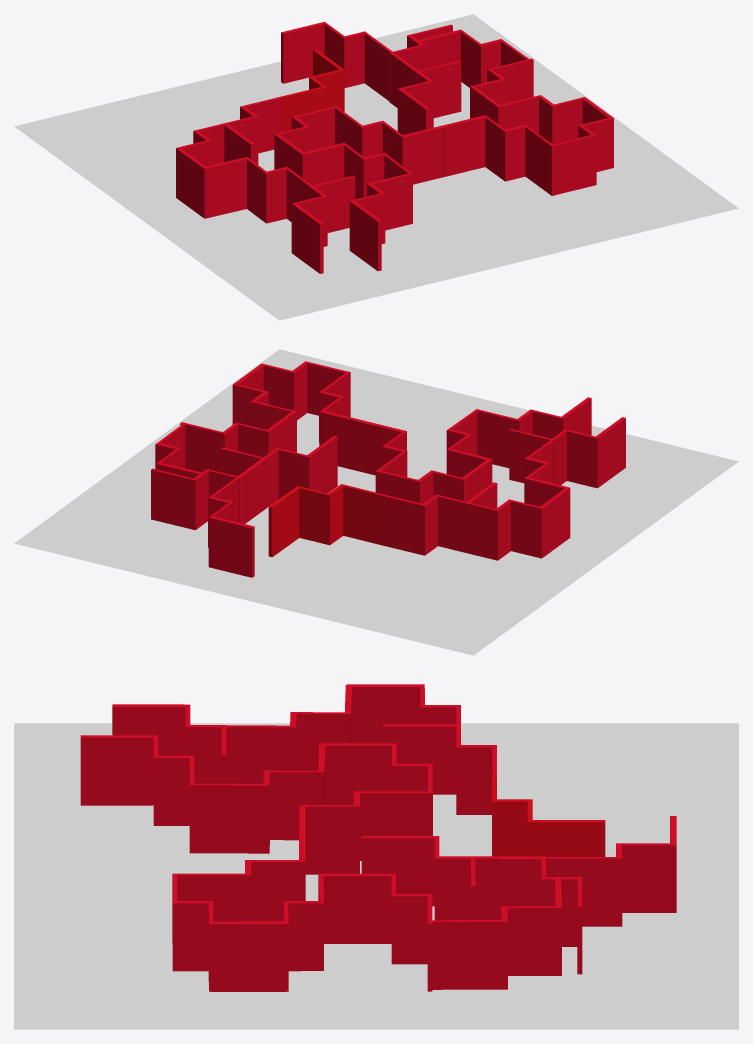
Rendered from maze_v5_c_f.gltf.
3 renders of one model, top to bottom at view 1: azimuth 30°, elevation 25°; view 2: azimuth 150°, elevation 25°; view 3: azimuth 270°, elevation 25°, orthographic. The views are drawn at different scales.
Visible parts, largest first — view 1: Plane, Cube.008; view 2: Plane, Cube.008; view 3: Plane, Cube.008.
Part boxes in pixels (<box>): Plane: <box>14,14,738,320</box>; Cube.008: <box>176,21,613,273</box>; Plane: <box>14,349,738,655</box>; Cube.008: <box>151,361,625,577</box>; Plane: <box>14,723,738,1029</box>; Cube.008: <box>80,684,676,991</box>.
Bounding box in the file's own units: 106 × 11.26 × 106.
